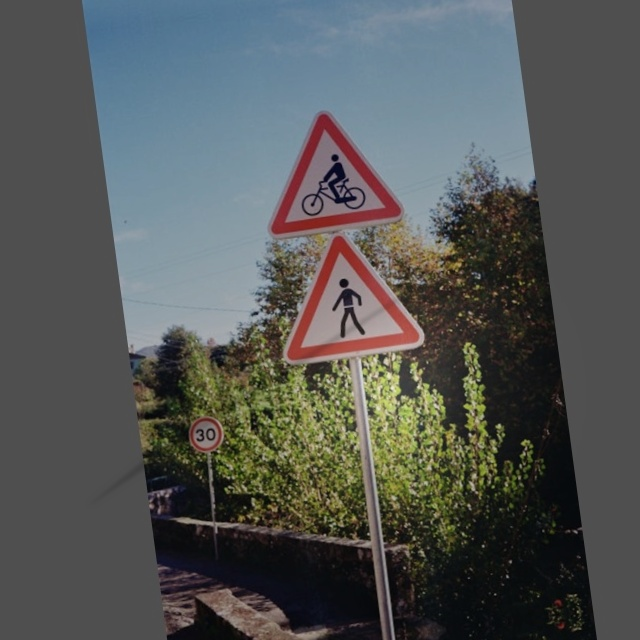Cycle_Crossing: (261, 104, 410, 240)
